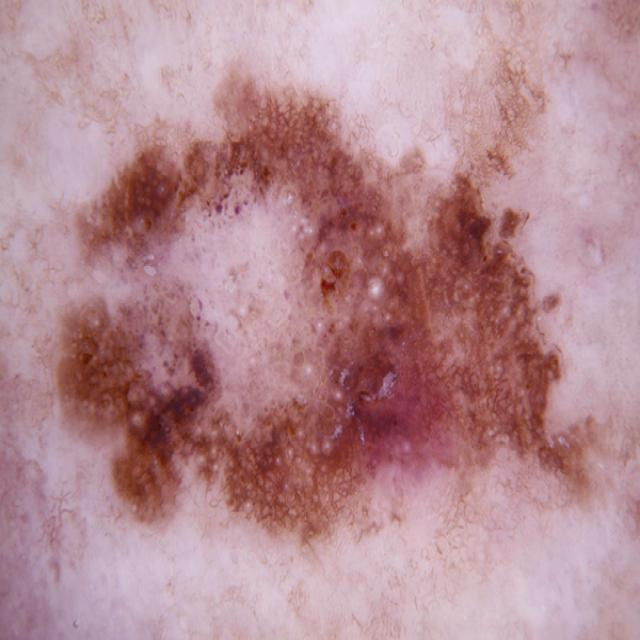Skin-Cancer Pigmented benign keratosis: (19, 17, 613, 640)
